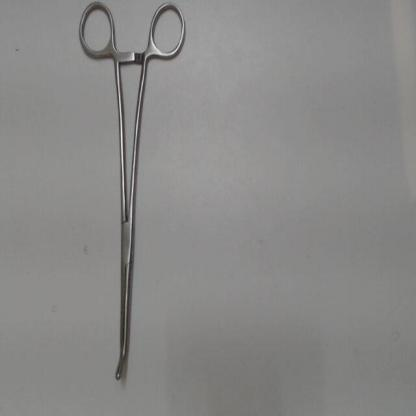Lahey Forceps: (72, 1, 193, 383)
